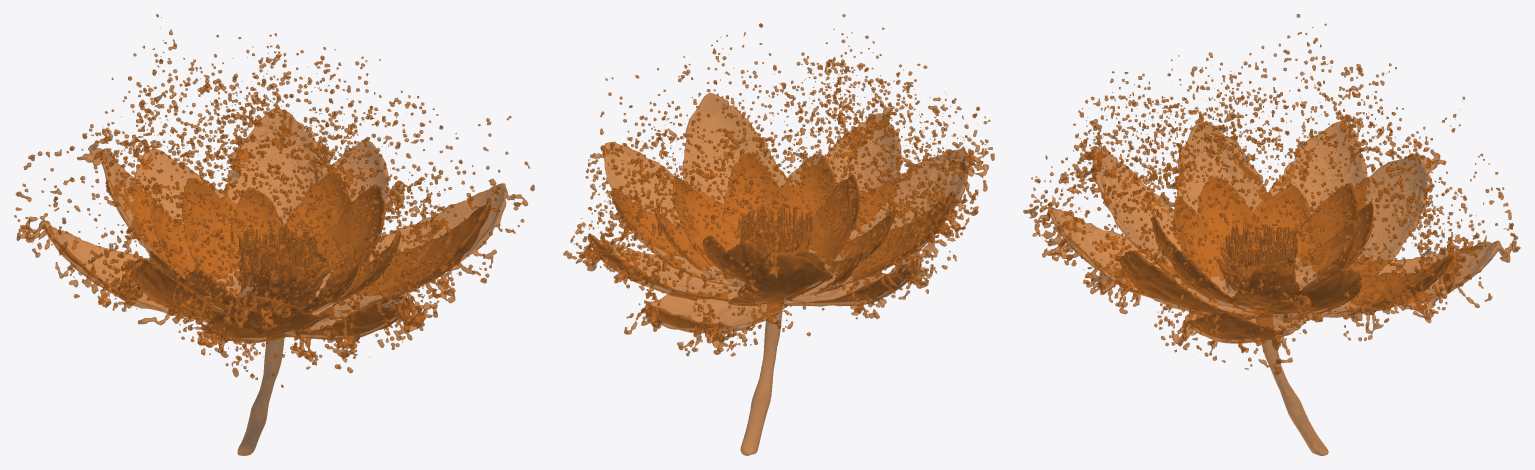
The model's file is flower.glb.
The picture shows the model from 3 angles, left to right: view 1: azimuth 30°, elevation 25°; view 2: azimuth 150°, elevation 25°; view 3: azimuth 270°, elevation 25°; orthographic projection. The views are drawn at different scales.
Visible parts, largest first — view 1: Object_3, Object_4, Object_9, Object_8, Object_6, Object_10, Object_5, Object_7, Object_2; view 2: Object_3, Object_4, Object_9, Object_6, Object_10, Object_8, Object_5, Object_7, Object_2; view 3: Object_3, Object_4, Object_9, Object_8, Object_6, Object_5, Object_10, Object_7, Object_2.
Part boxes in pixels (<box>): Object_3: <box>114,108,515,455</box>; Object_4: <box>16,113,401,454</box>; Object_9: <box>98,45,399,369</box>; Object_8: <box>14,60,524,387</box>; Object_6: <box>40,14,475,368</box>; Object_10: <box>105,33,413,355</box>; Object_5: <box>20,46,530,361</box>; Object_7: <box>15,59,534,358</box>; Object_2: <box>38,17,480,365</box>; Object_3: <box>579,92,988,455</box>; Object_4: <box>576,126,988,452</box>; Object_9: <box>626,61,979,318</box>; Object_6: <box>586,53,988,346</box>; Object_10: <box>563,47,994,288</box>; Object_8: <box>585,14,992,350</box>; Object_5: <box>567,28,990,350</box>; Object_7: <box>587,44,927,356</box>; Object_2: <box>573,37,992,341</box>; Object_3: <box>1039,122,1460,455</box>; Object_4: <box>1039,110,1512,455</box>; Object_9: <box>1023,46,1483,293</box>; Object_8: <box>1031,32,1515,369</box>; Object_6: <box>1025,14,1520,364</box>; Object_5: <box>1033,35,1516,374</box>; Object_10: <box>1074,61,1500,341</box>; Object_7: <box>1032,80,1484,336</box>; Object_2: <box>1045,27,1498,355</box>.
Size of the model in its own units: 53.62 by 48.61 by 56.59.
